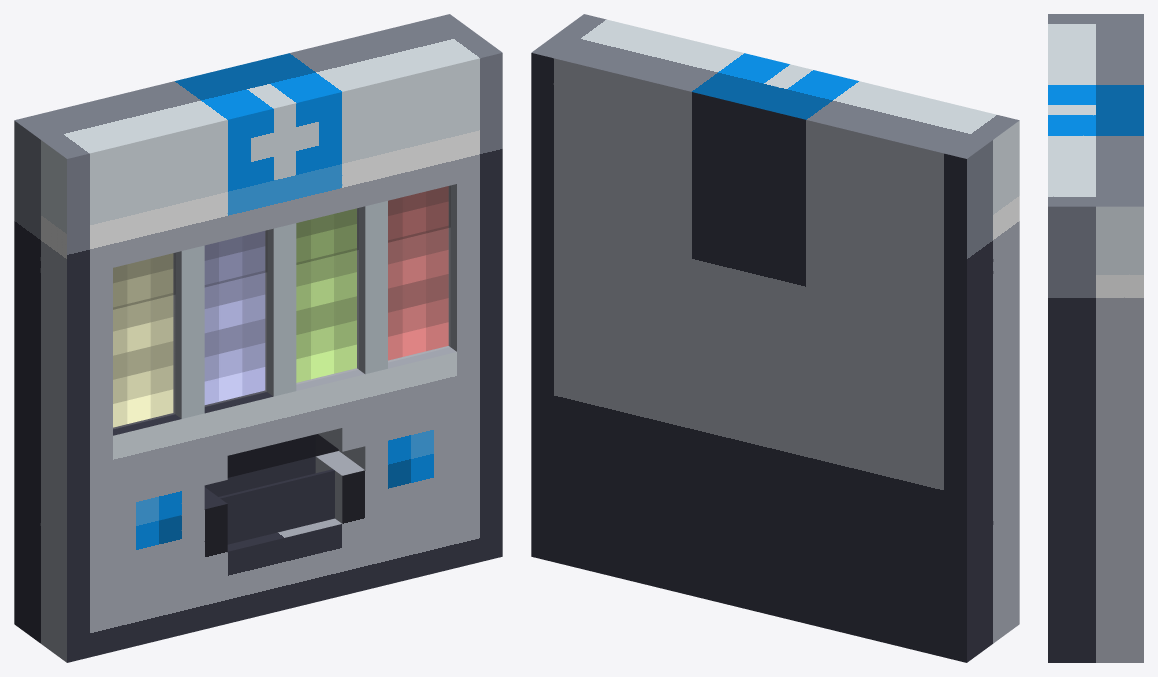
Rendered from wall_healer_level_6.glb.
3 renders of one model, left to right at view 1: azimuth 30°, elevation 25°; view 2: azimuth 150°, elevation 25°; view 3: azimuth 270°, elevation 25°, orthographic. The views are drawn at different scales.
Visible parts, largest first — view 1: Continuous_Medical_Housing, Bar_Shadow_Overlay, Syriniver_Glass, Aiuri_Reservoir, Libital_Glass, Blood_Glass, Aiuri_Glass, Syriniver_Reservoir, Blood_Reservoir, Libital_Reservoir, Service_Cover; view 2: Continuous_Medical_Housing; view 3: Continuous_Medical_Housing.
Part boxes in pixels (x1,y1,x2,y2): Continuous_Medical_Housing: (14, 14, 502, 662); Bar_Shadow_Overlay: (113, 186, 450, 309); Syriniver_Glass: (296, 208, 358, 383); Aiuri_Reservoir: (204, 231, 265, 404); Libital_Glass: (113, 253, 174, 428); Blood_Glass: (388, 186, 449, 361); Aiuri_Glass: (205, 231, 266, 406); Syriniver_Reservoir: (296, 208, 356, 382); Blood_Reservoir: (388, 186, 448, 360); Libital_Reservoir: (113, 253, 173, 427); Service_Cover: (219, 469, 334, 544); Continuous_Medical_Housing: (531, 14, 1019, 662); Continuous_Medical_Housing: (1048, 14, 1143, 662).
Bounding box in the file's own units: 0.5344 × 0.5906 × 0.1125.
Materials: 7 (7 with a texture image).
